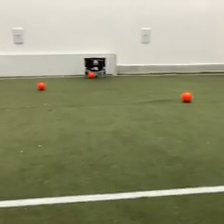ball: (180, 90, 193, 103), (36, 80, 46, 90), (87, 70, 96, 78)
goal: (1, 51, 118, 79)
robot: (82, 56, 108, 80)
